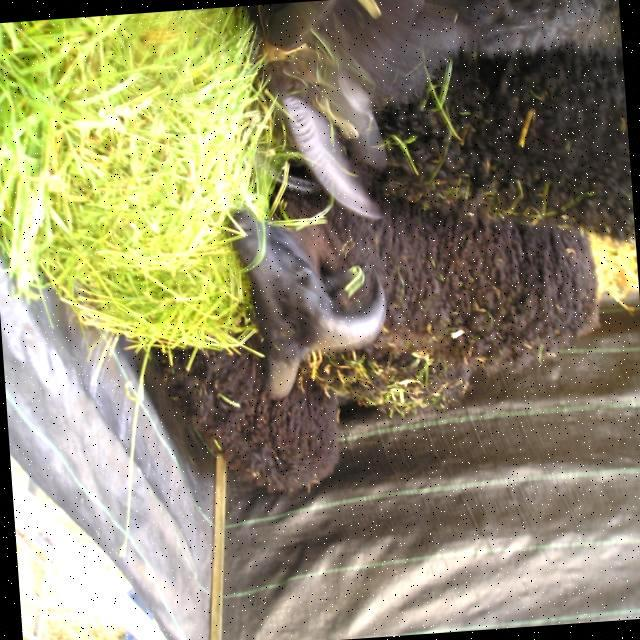sheep: (270, 0, 633, 241), (226, 163, 594, 397), (151, 339, 337, 486), (301, 345, 468, 416)
